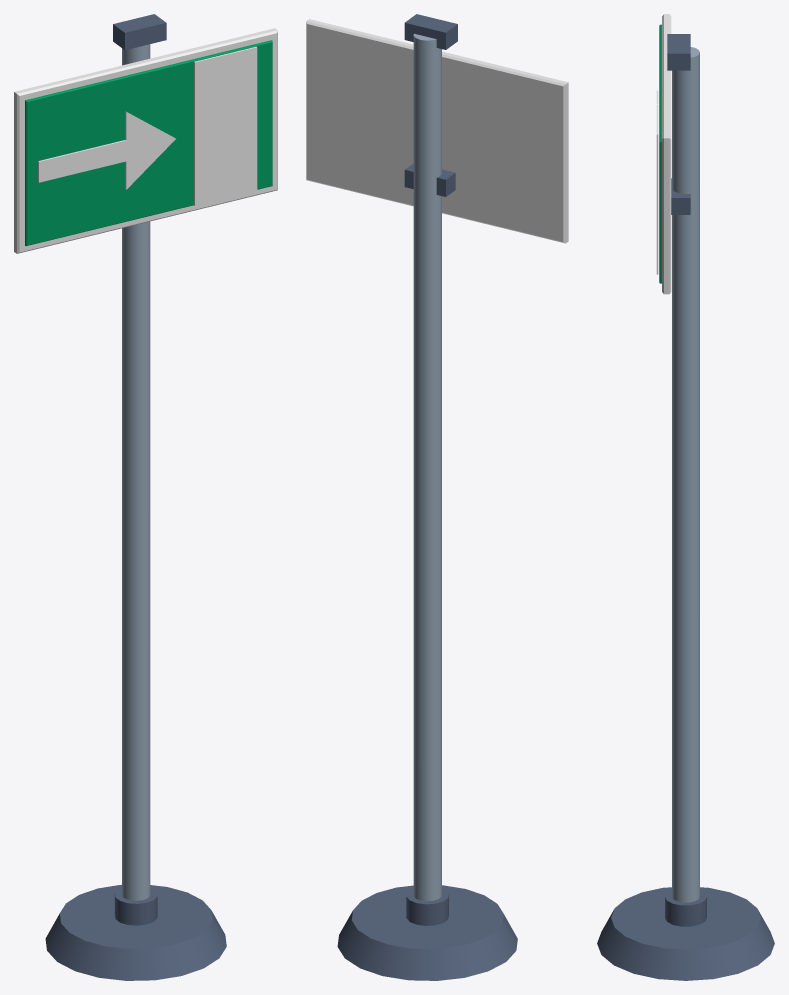
The model's file is panneau-sortie.glb.
3 renders of one model, left to right at view 1: azimuth 30°, elevation 25°; view 2: azimuth 150°, elevation 25°; view 3: azimuth 270°, elevation 25°, orthographic. The views are drawn at different scales.
Visible parts, largest first — view 1: panneau__vert_fonce, panneau__blanc, poteau__bleu_pale, poteau__bleu_fonce, panneau__bleu_fonce; view 2: panneau__blanc, poteau__bleu_pale, poteau__bleu_fonce, panneau__bleu_fonce; view 3: poteau__bleu_pale, poteau__bleu_fonce, panneau__blanc, panneau__bleu_fonce, panneau__vert_fonce.
Part boxes in pixels (box(x1,y1,x2,y2)): panneau__vert_fonce: box(25, 40, 272, 245); panneau__blanc: box(14, 28, 277, 253); poteau__bleu_pale: box(122, 44, 150, 900); poteau__bleu_fonce: box(45, 884, 226, 980); panneau__bleu_fonce: box(113, 14, 166, 50); panneau__blanc: box(306, 19, 568, 243); poteau__bleu_pale: box(413, 33, 441, 901); poteau__bleu_fonce: box(337, 885, 517, 980); panneau__bleu_fonce: box(404, 14, 457, 196); poteau__bleu_pale: box(672, 47, 699, 902); poteau__bleu_fonce: box(597, 887, 774, 980); panneau__blanc: box(656, 14, 671, 294); panneau__bleu_fonce: box(667, 34, 690, 214); panneau__vert_fonce: box(659, 24, 661, 283).
Bounding box in the file's own units: 0.6221 × 2.1 × 0.3764.
